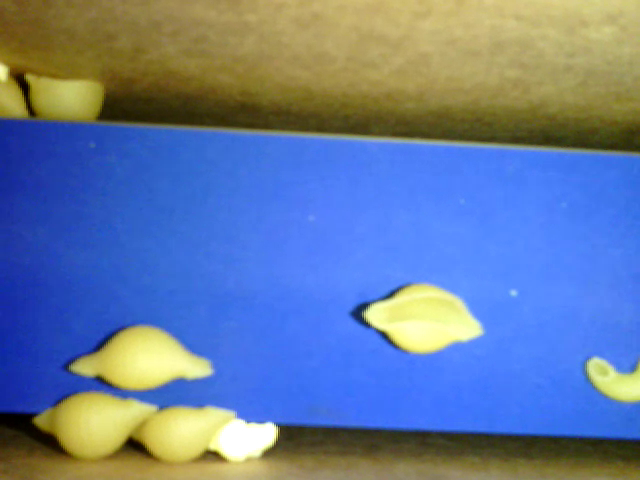elbow: (586, 347, 637, 399)
shell: (64, 320, 215, 392), (356, 282, 488, 358), (27, 392, 160, 461), (124, 401, 236, 466), (22, 72, 106, 123)
